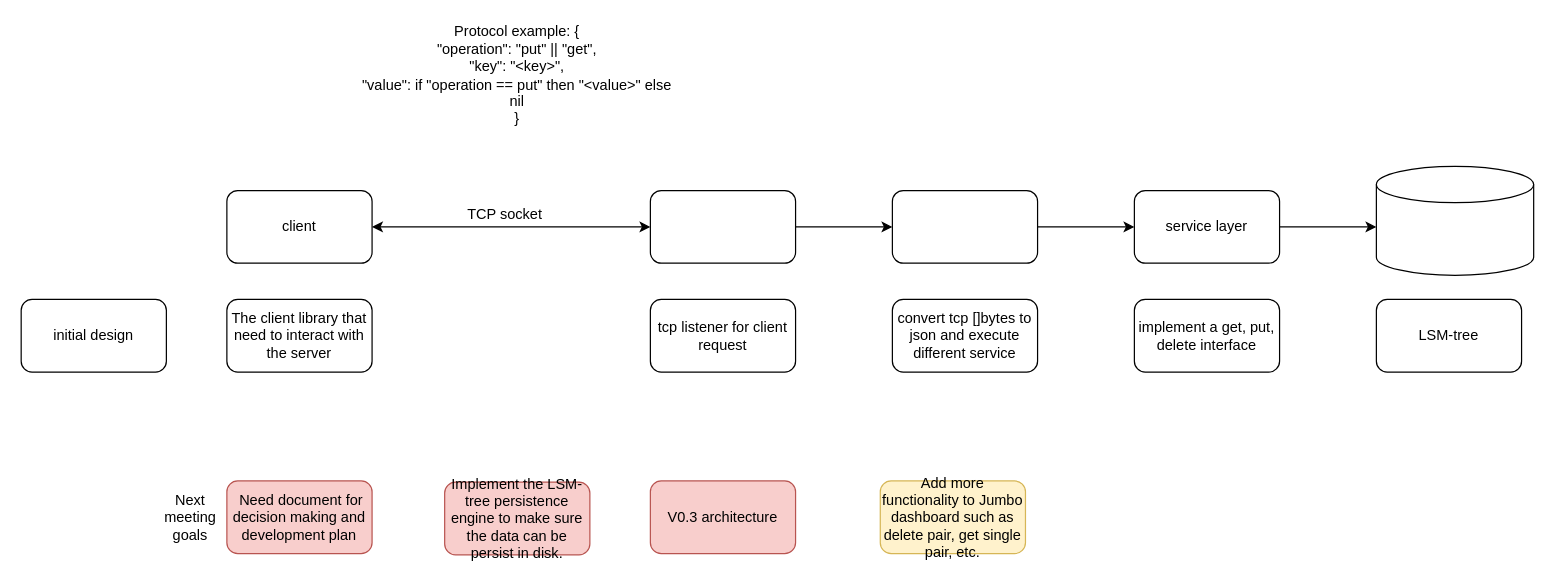
Image size: 1555x582. Some labels were removed from this diagram. Here are the shapes that lost their labels. From the top down, the centre of each, then its label:
the point at 722,226: server layer
the point at 964,226: protocol parser
the point at 1454,220: persistence
